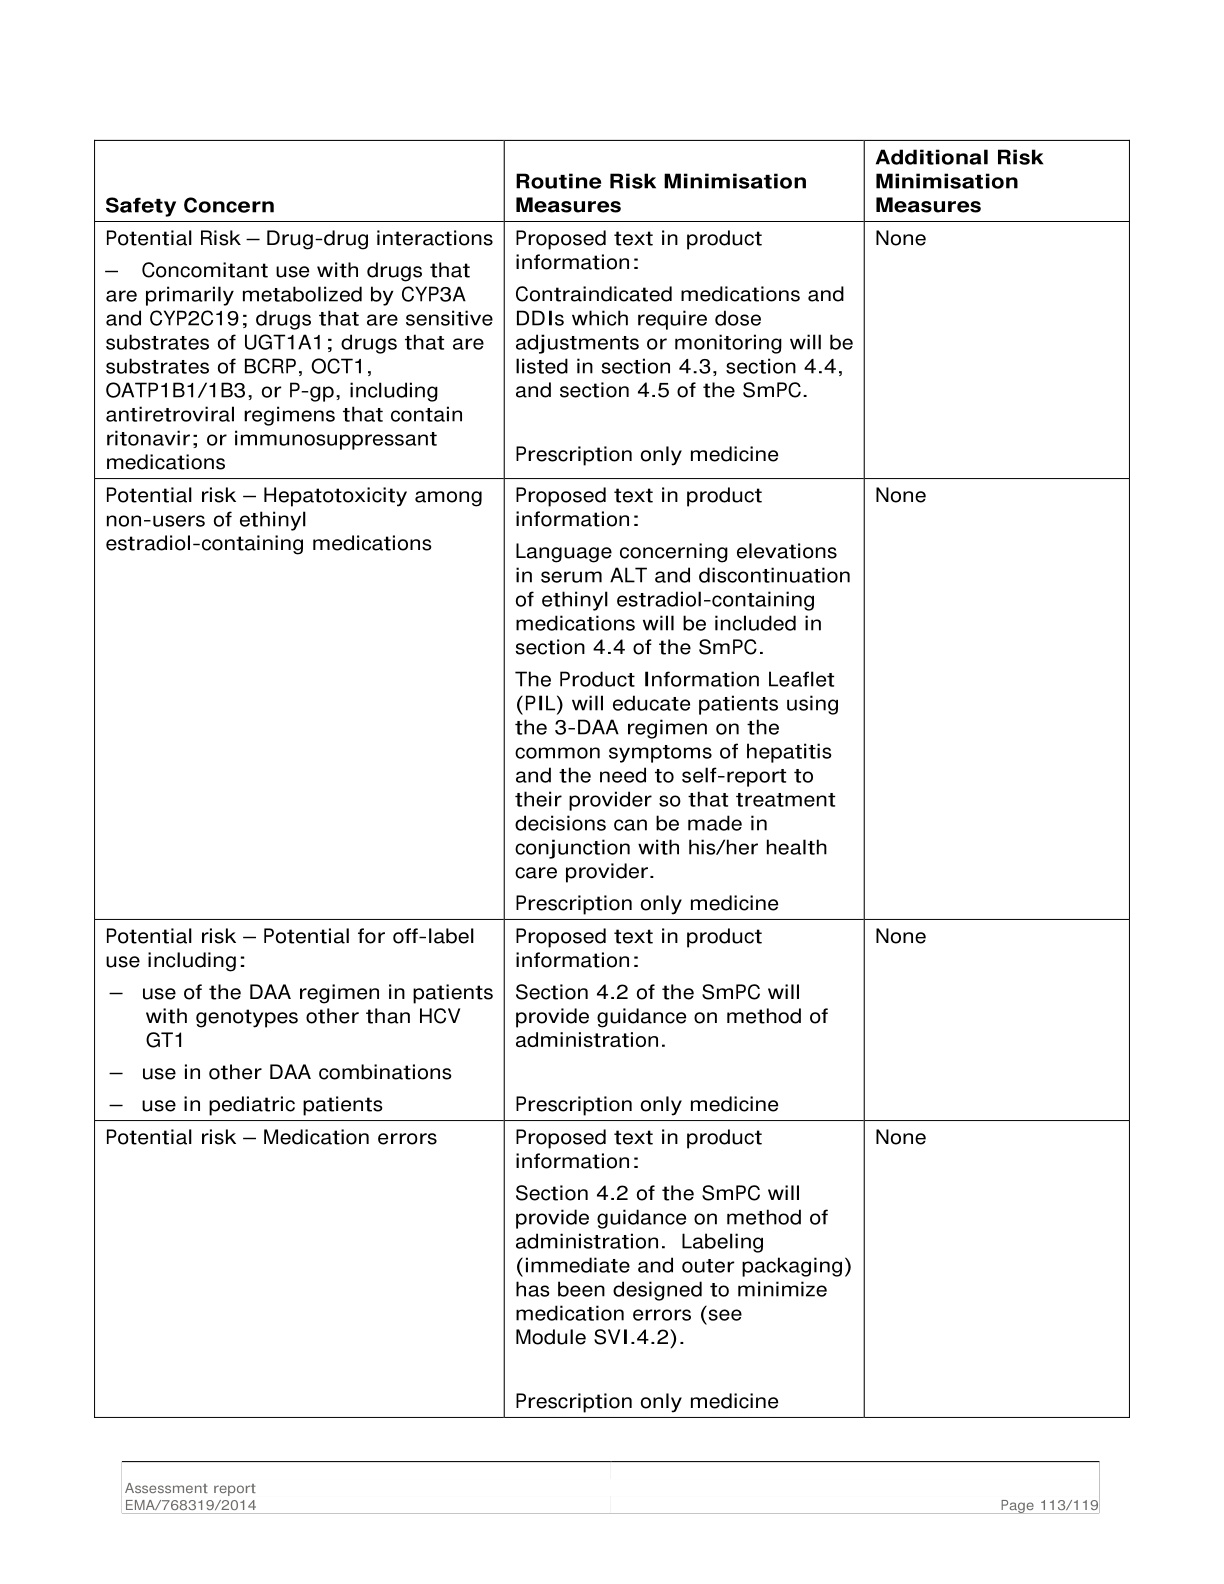full_lined: (93, 139, 1131, 1419)
